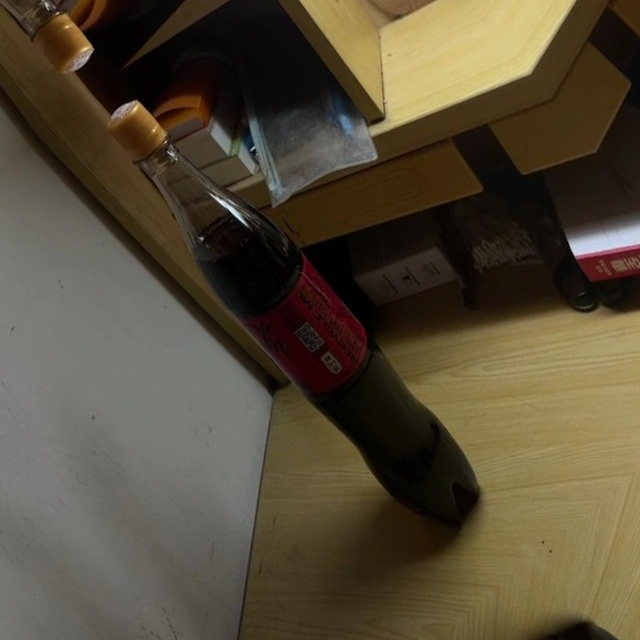Coca-Cola: (81, 75, 502, 551)
